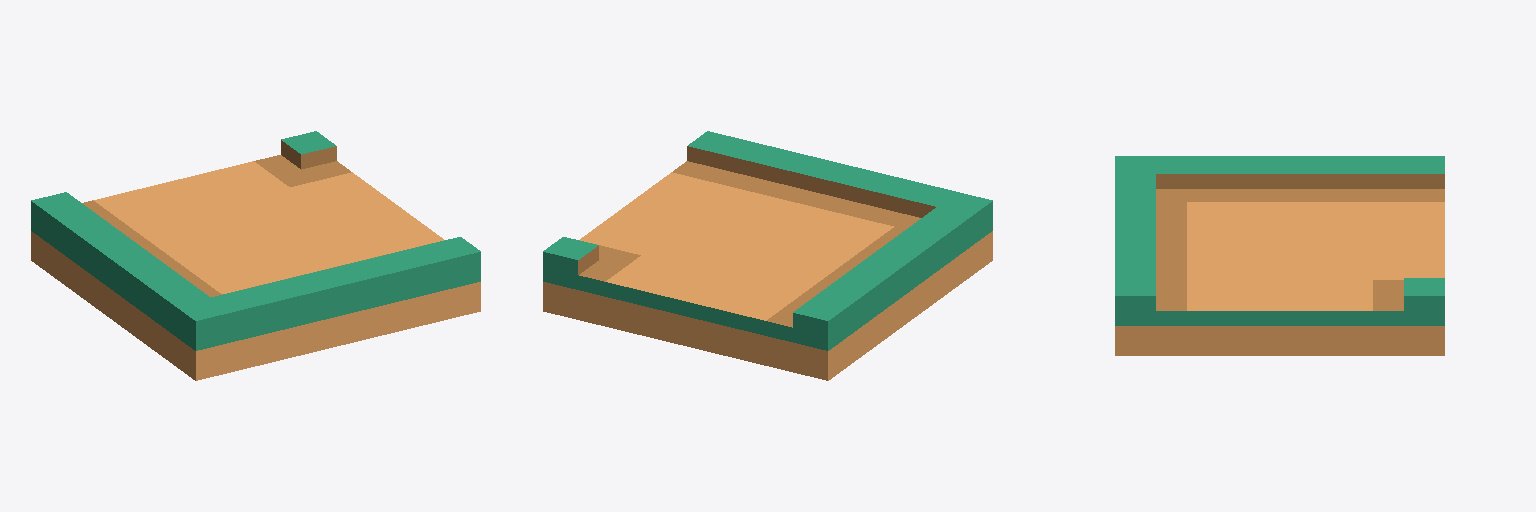
The model's file is CornerLD.obj.
The picture shows the model from 3 angles: view 1: azimuth 30°, elevation 25°; view 2: azimuth 150°, elevation 25°; view 3: azimuth 270°, elevation 25°; orthographic projection.
Visible parts, largest first — view 1: CornerLD; view 2: CornerLD; view 3: CornerLD.
Part boxes in pixels (bbox=[...]): CornerLD: bbox=[31, 131, 480, 380]; CornerLD: bbox=[543, 131, 992, 380]; CornerLD: bbox=[1115, 156, 1444, 355].
Size of the model in its own units: 1 by 0.2 by 1.